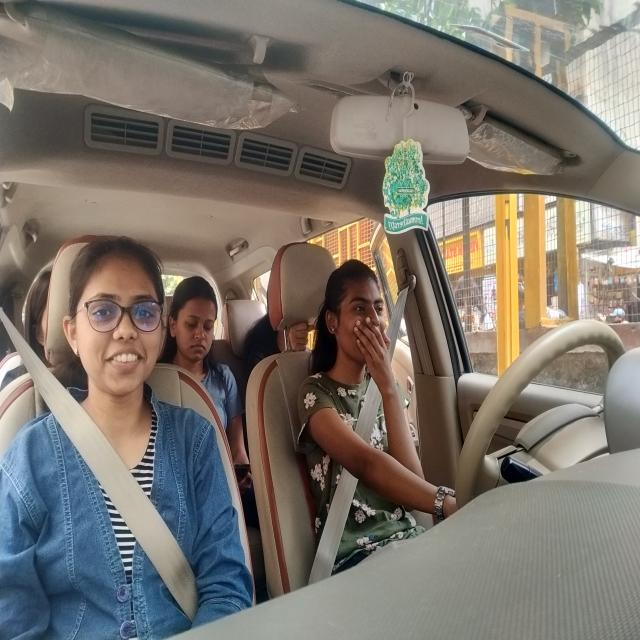drowsy: (318, 255, 394, 376)
person: (64, 248, 170, 398), (176, 272, 219, 367), (25, 266, 52, 364), (258, 307, 318, 349)
